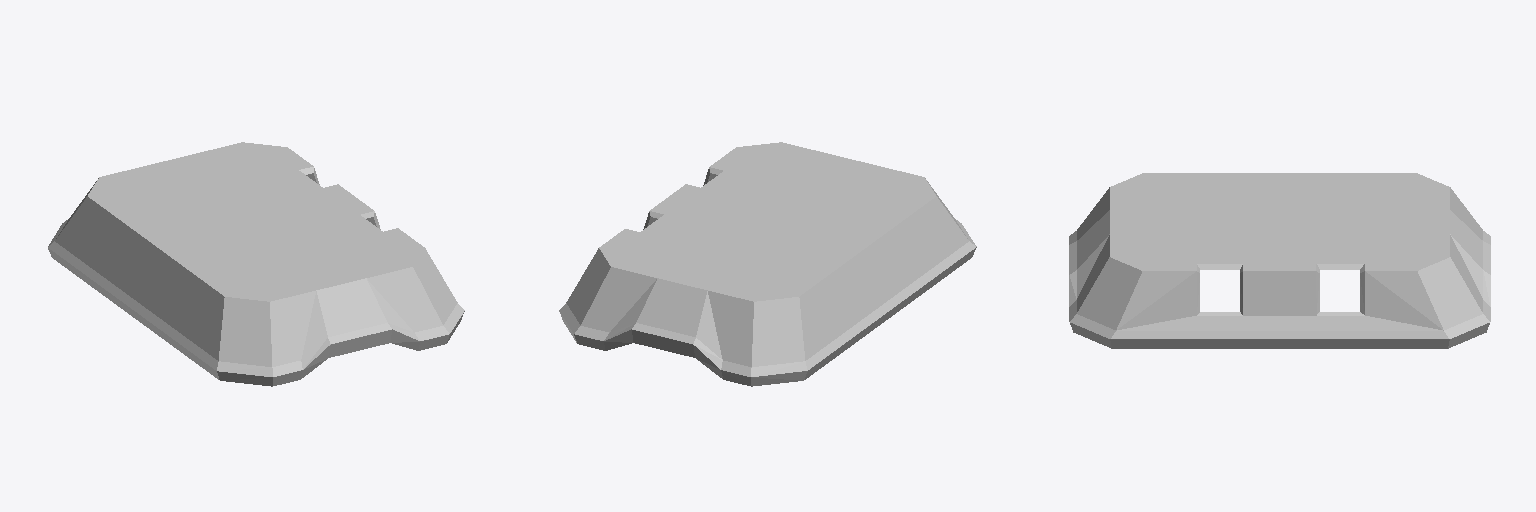
File: Plataforma1.obj
The picture shows the model from 3 angles: view 1: azimuth 30°, elevation 25°; view 2: azimuth 150°, elevation 25°; view 3: azimuth 270°, elevation 25°; orthographic projection.
Visible parts, largest first — view 1: hypercasual_prop009; view 2: hypercasual_prop009; view 3: hypercasual_prop009.
Boxes of the visible parts, x1=… form: hypercasual_prop009: x1=48, y1=142, x2=464, y2=386; hypercasual_prop009: x1=559, y1=142, x2=976, y2=386; hypercasual_prop009: x1=1069, y1=173, x2=1490, y2=348.
Bounding box in the file's own units: 1.14 × 0.2983 × 1.68.